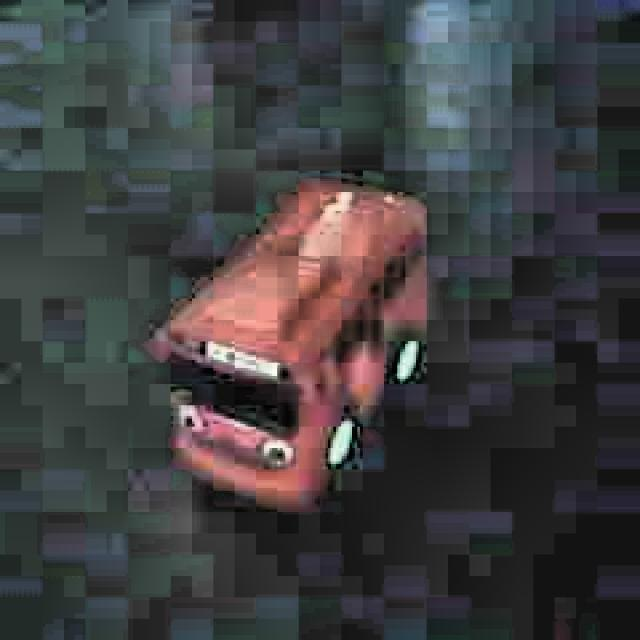bus: (136, 162, 446, 530)
